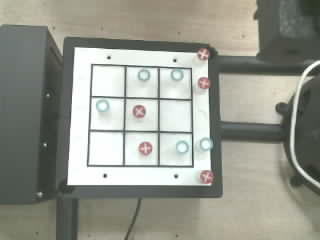blue circle: (96, 99, 109, 112), (176, 140, 188, 153), (200, 138, 212, 150), (171, 69, 183, 80), (138, 69, 150, 80)
board: (67, 46, 212, 186)
cells: (89, 132, 122, 165), (125, 133, 157, 165), (160, 133, 192, 165), (91, 98, 123, 129), (126, 99, 157, 130), (160, 100, 191, 131), (92, 66, 124, 96), (160, 68, 190, 98), (127, 67, 157, 97)
grid: (87, 64, 193, 167)
red cross: (139, 142, 153, 156), (200, 170, 213, 183), (133, 105, 145, 117), (197, 48, 209, 60), (198, 77, 210, 88)
